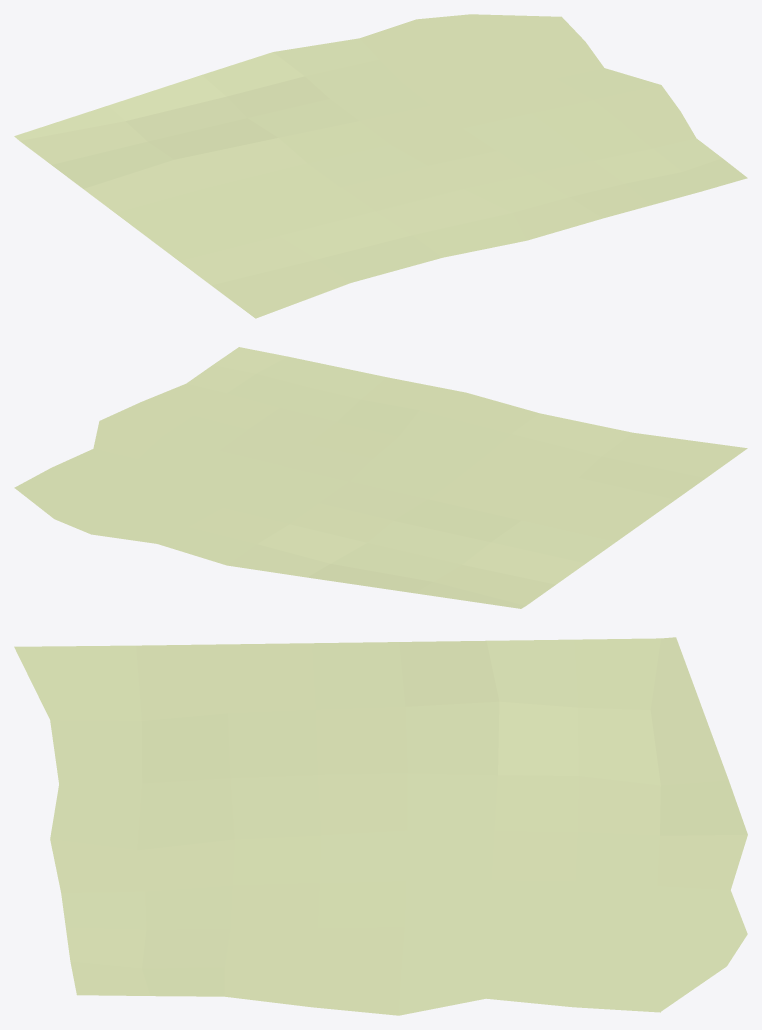
Rendered from Paper_info_v2.fbx.
3 renders of one model, top to bottom at view 1: azimuth 30°, elevation 25°; view 2: azimuth 150°, elevation 25°; view 3: azimuth 270°, elevation 25°, orthographic. The views are drawn at different scales.
Parts seen in each view (by area): view 1: Plane; view 2: Plane; view 3: Plane.
Boxes of the visible parts, left/top/right/bottom form: Plane: left=14, top=14, right=747, bottom=318; Plane: left=14, top=347, right=747, bottom=608; Plane: left=14, top=637, right=747, bottom=1015.
Bounding box in the file's own units: 33.97 × 0.5582 × 28.71.
